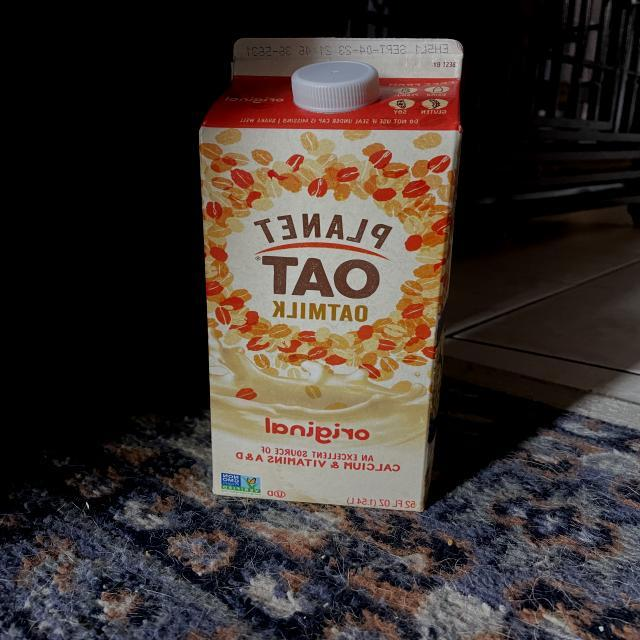Planet Oat Original: (195, 34, 470, 518)
